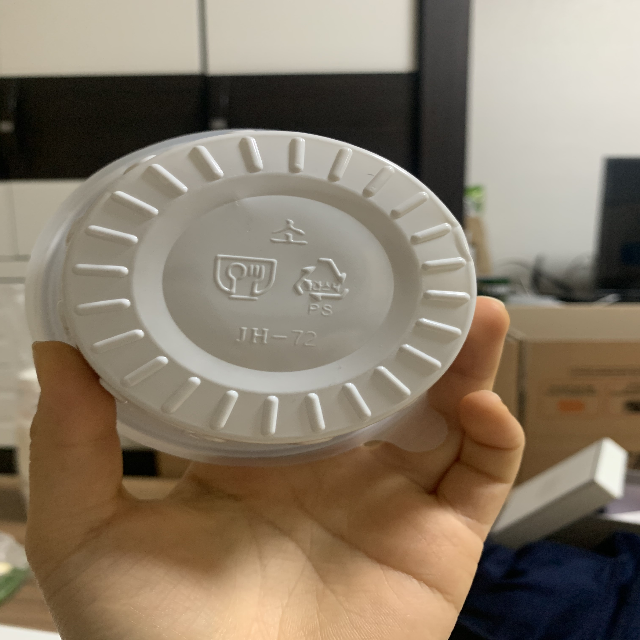ps: (289, 252, 352, 320)
